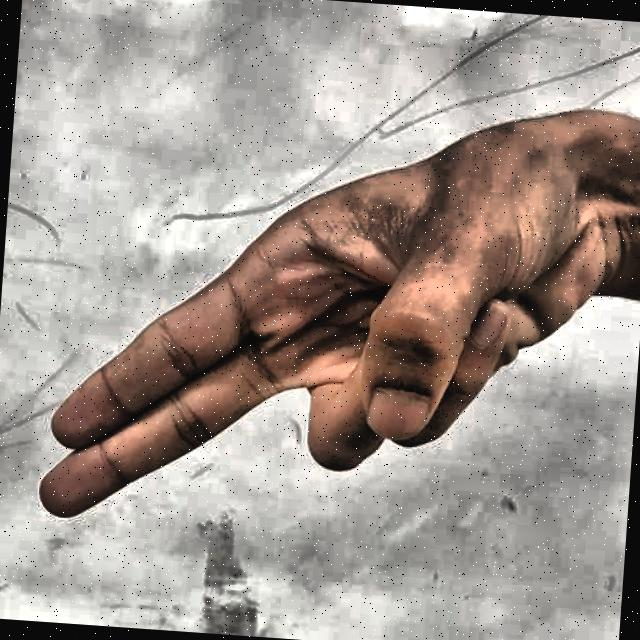Ha: (16, 76, 626, 612)
